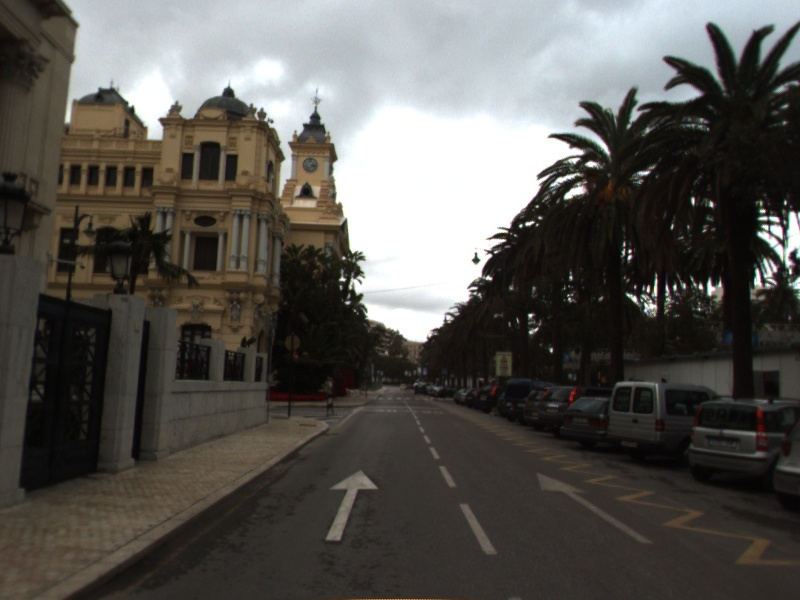STRAIGHT: (534, 470, 656, 546), (323, 468, 380, 543)
